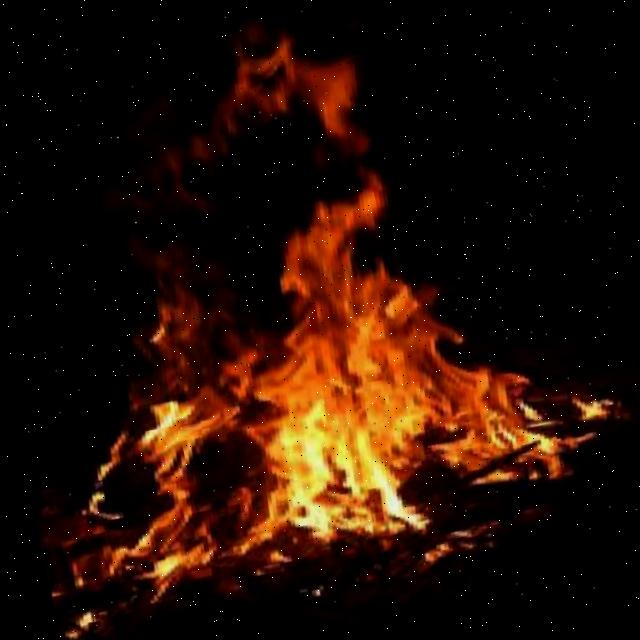fire: (0, 0, 606, 598)
